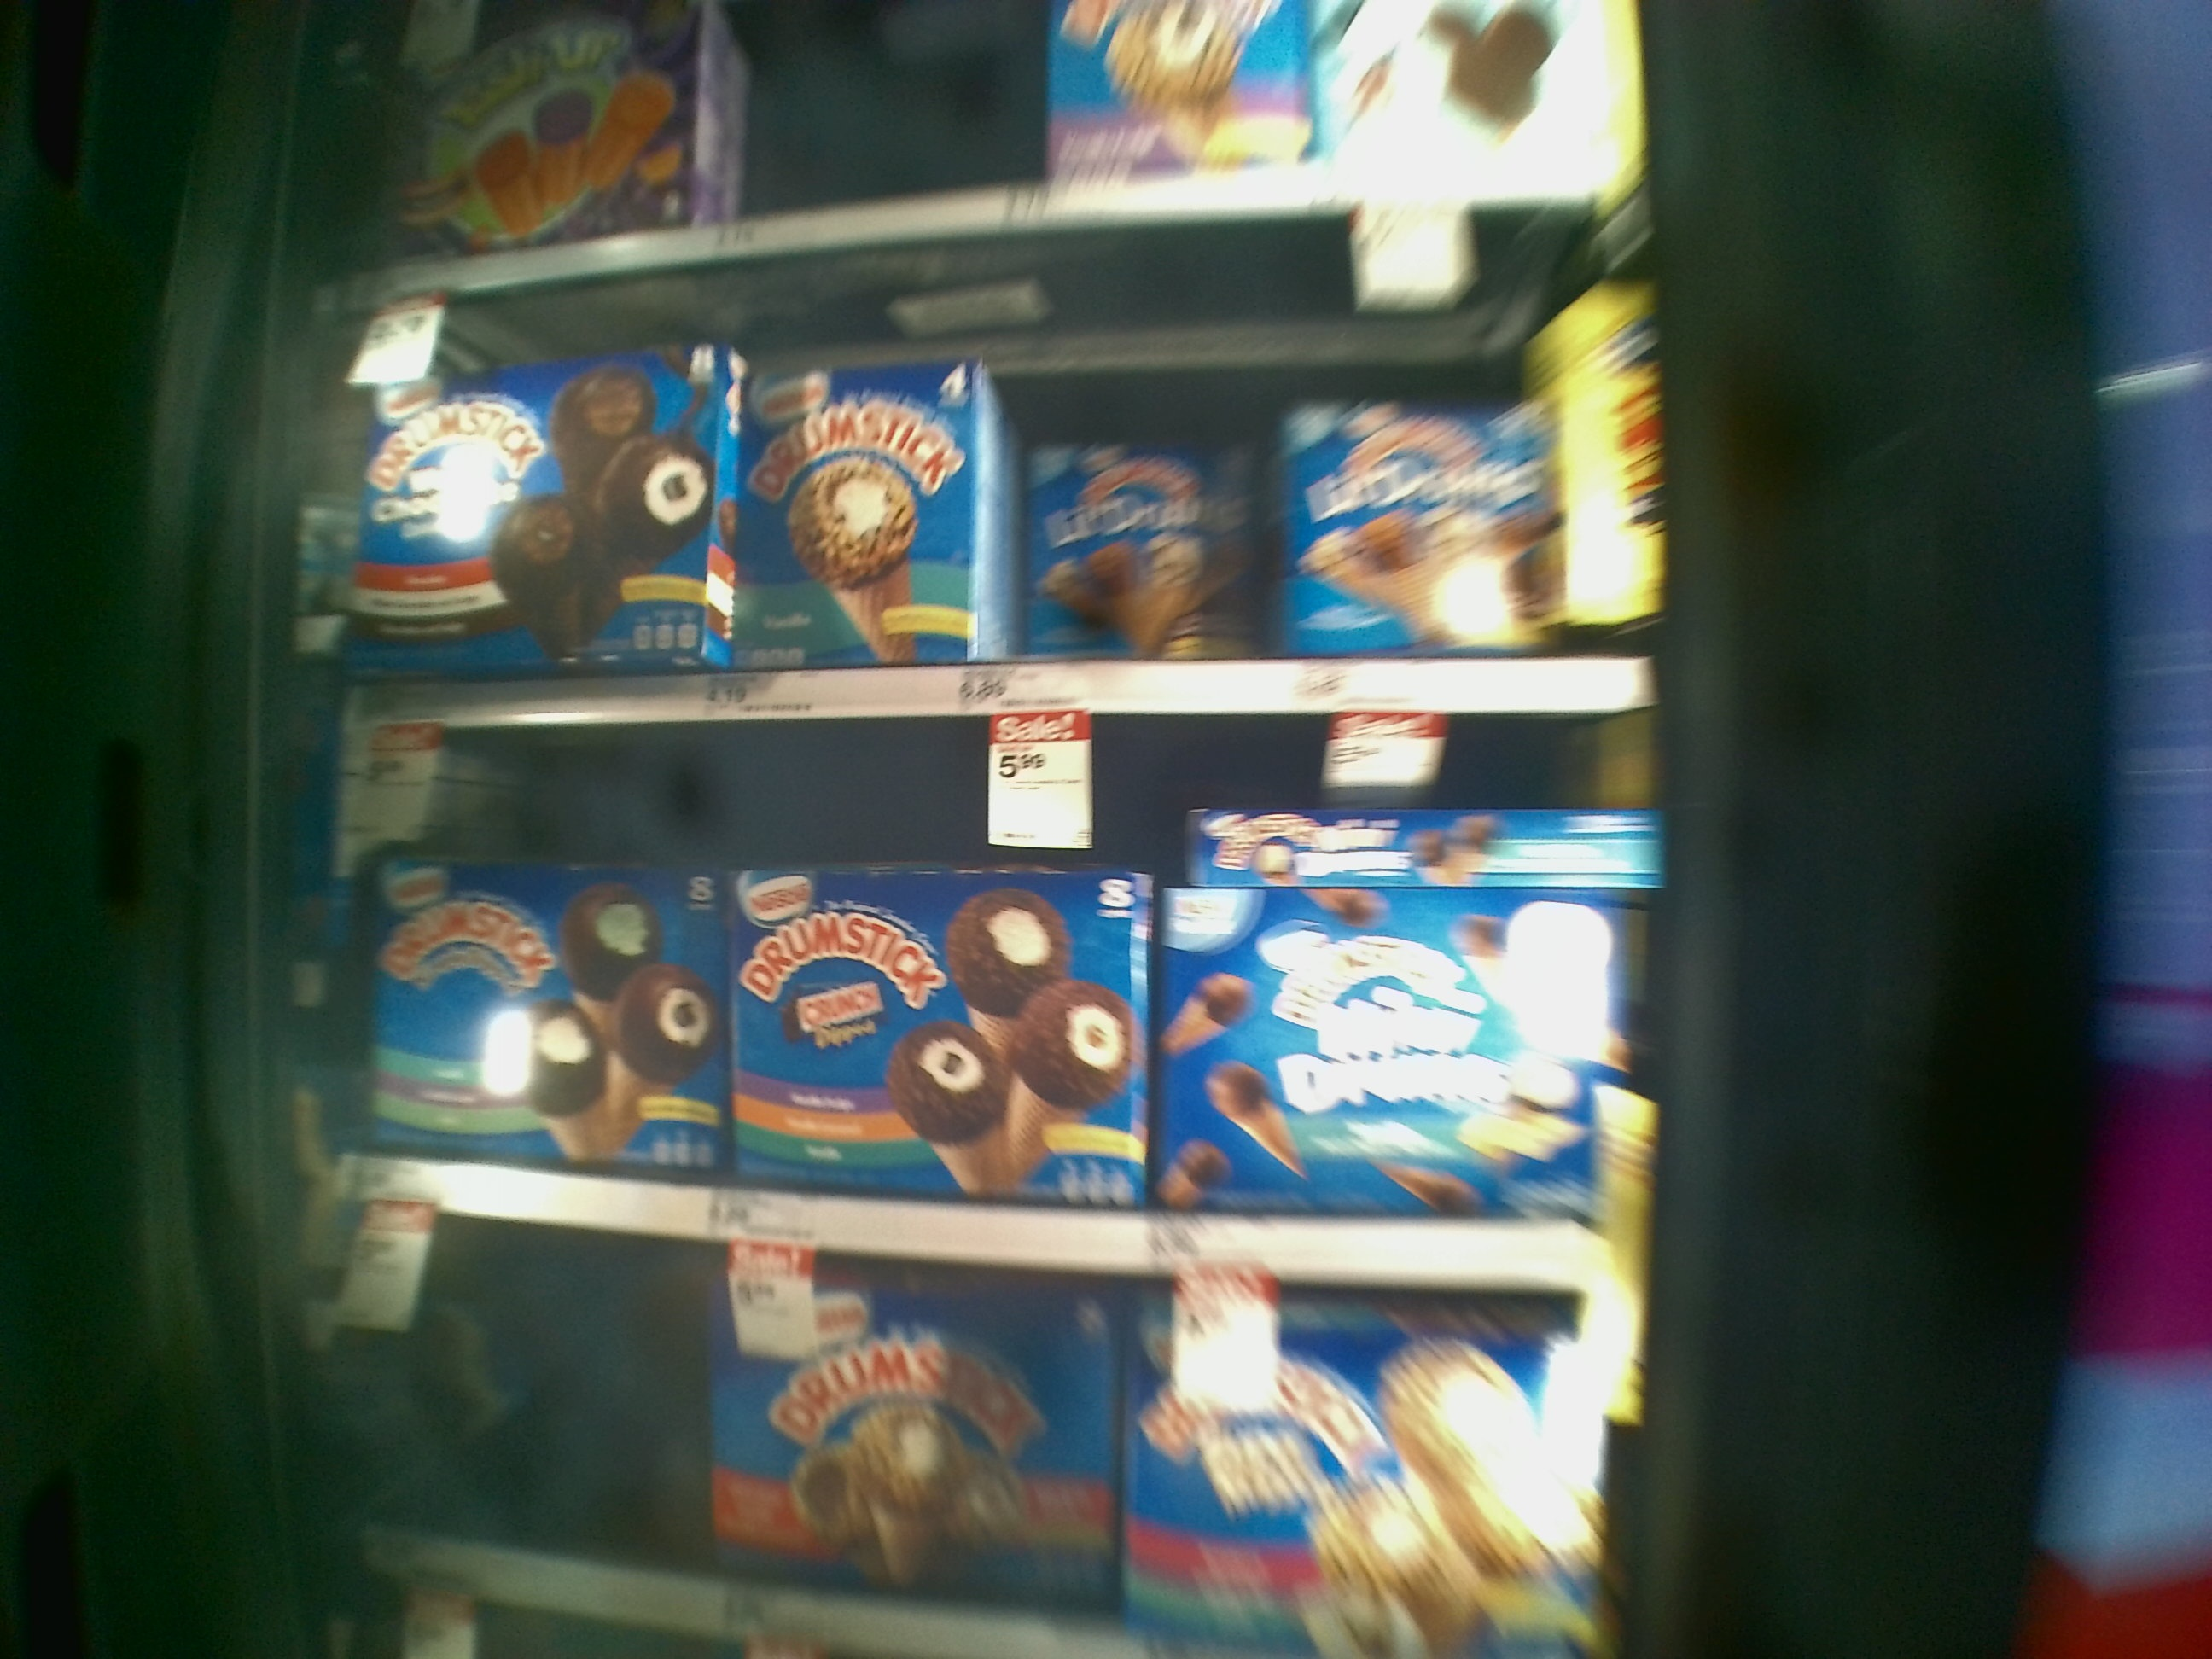shelf: (310, 718, 1672, 1284), (310, 185, 1674, 718)
